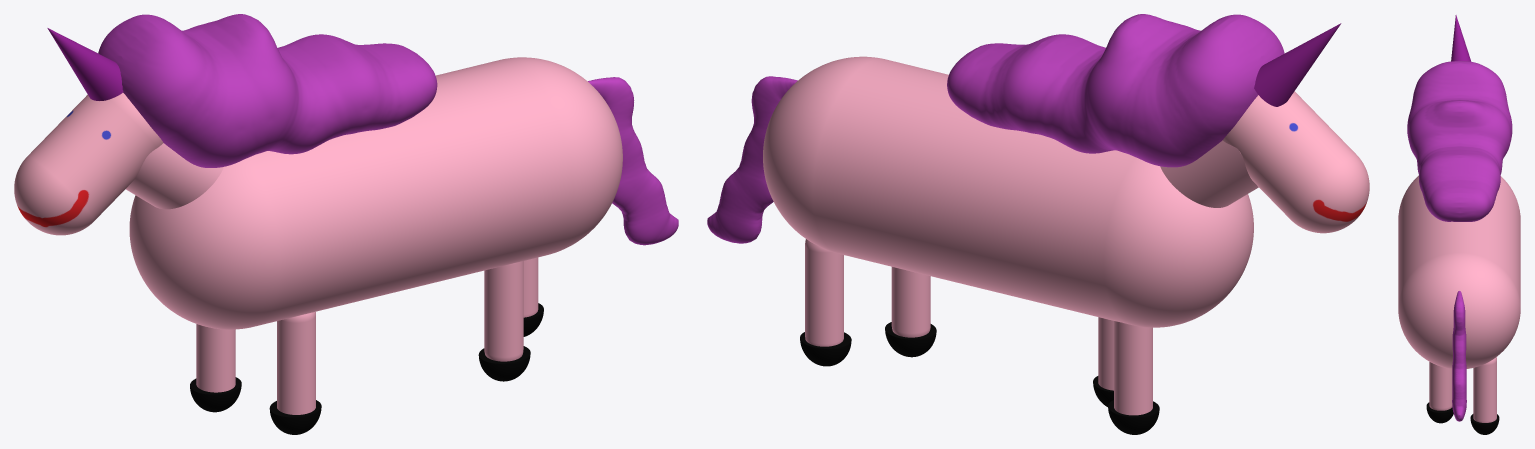
File: UnicornTest.fbx
3 renders of one model, left to right at view 1: azimuth 30°, elevation 25°; view 2: azimuth 150°, elevation 25°; view 3: azimuth 270°, elevation 25°, orthographic. The views are drawn at different scales.
Visible parts, largest first — view 1: root (×13); view 2: root (×13); view 3: root (×8).
Part boxes in pixels (x1,y1,x2,y2): root (×13): [14, 14, 678, 434]; root (×13): [707, 14, 1369, 434]; root (×8): [1398, 15, 1520, 434].
Size of the model in its own units: 0.587 by 0.3868 by 0.1552.
9 materials, 1 textured.
